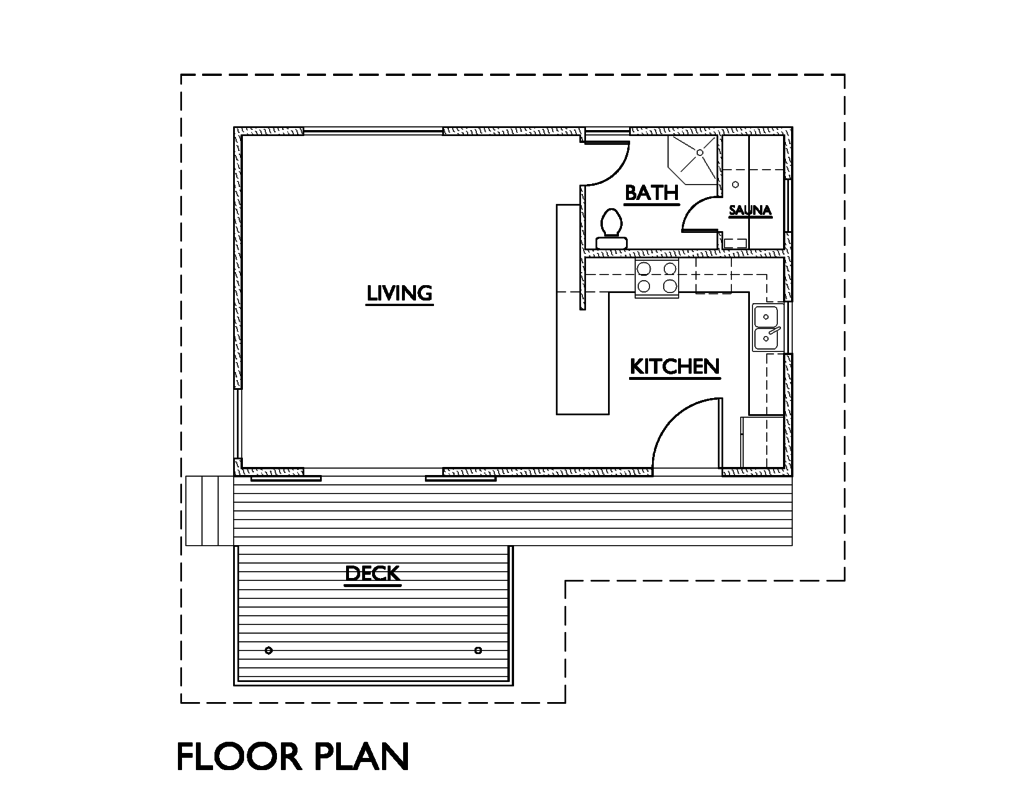door: (646, 391, 738, 481), (582, 139, 632, 197), (675, 188, 725, 237)
large_sink: (591, 205, 633, 249)
twin_sink: (749, 291, 797, 357)
window: (294, 116, 454, 149)
